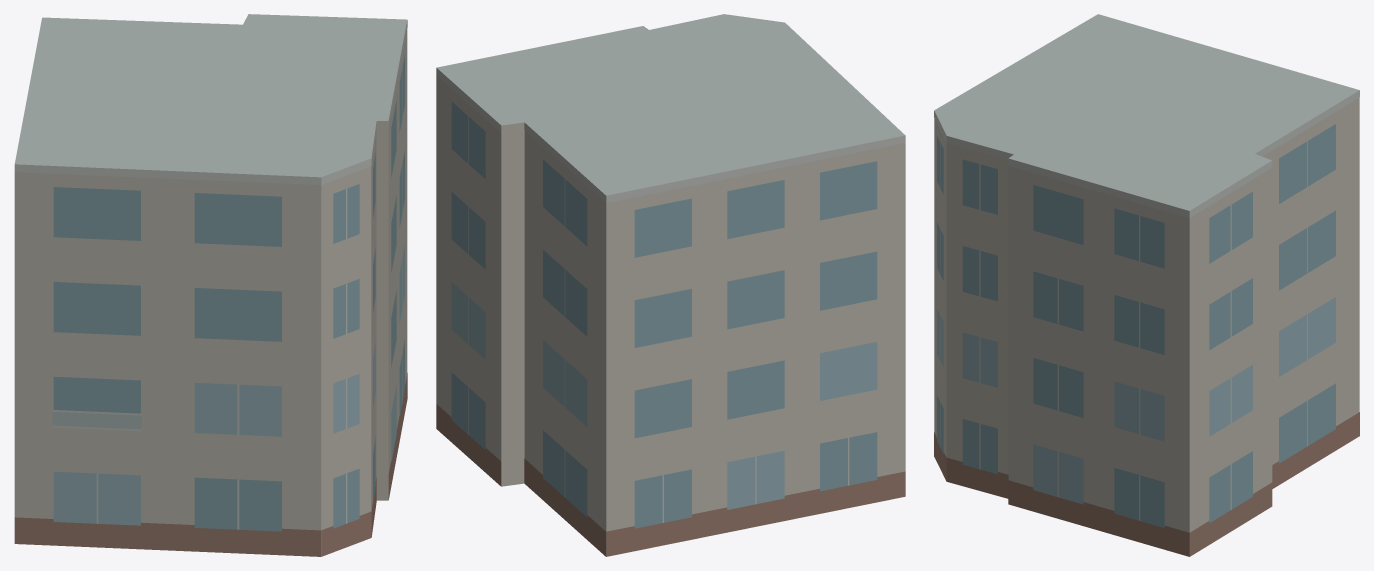
Rendered from survey-upis-32937821.glb.
The picture shows the model from 3 angles, left to right: view 1: azimuth 30°, elevation 25°; view 2: azimuth 150°, elevation 25°; view 3: azimuth 270°, elevation 25°; orthographic projection. The views are drawn at different scales.
Parts seen in each view (by area): view 1: survey-upis-32937821.tmp; view 2: survey-upis-32937821.tmp; view 3: survey-upis-32937821.tmp.
Part boxes in pixels (x1=…): survey-upis-32937821.tmp: x1=14, y1=14, x2=407, y2=556; survey-upis-32937821.tmp: x1=436, y1=14, x2=905, y2=556; survey-upis-32937821.tmp: x1=934, y1=14, x2=1359, y2=556.
Bounding box in the file's own units: 14.42 × 11.8 × 13.17.
